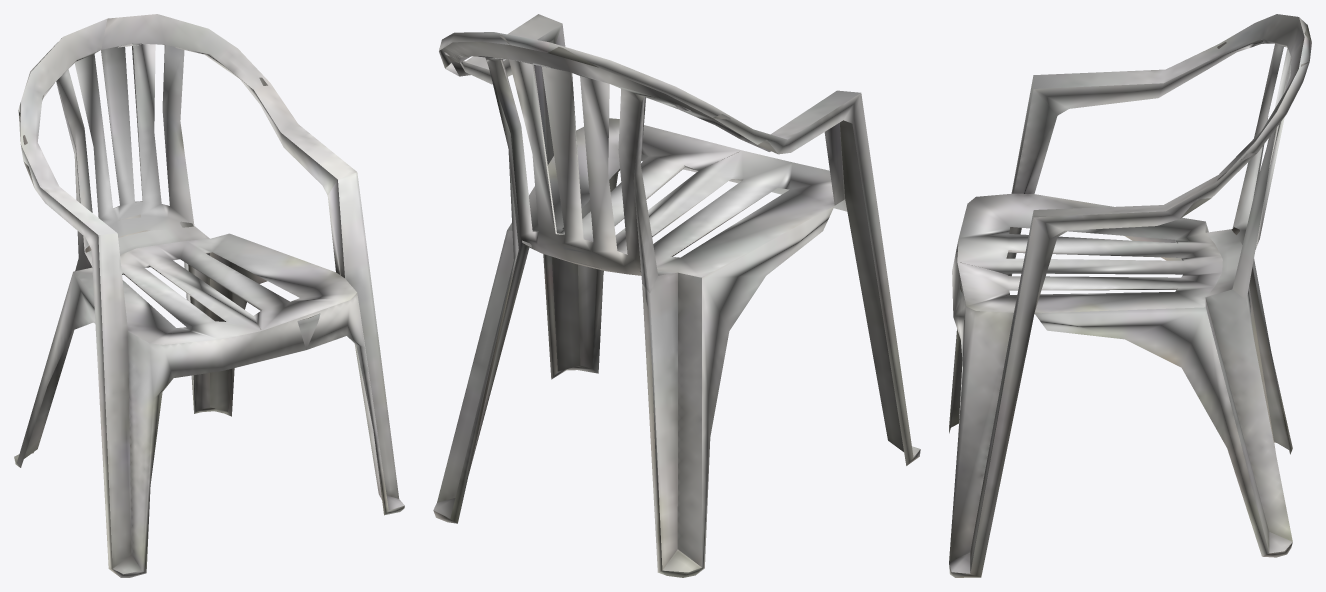
File: chair_monobloc_lod1.glb
3 views of the same model, side by side, from view 1: azimuth 30°, elevation 25°; view 2: azimuth 150°, elevation 25°; view 3: azimuth 270°, elevation 25° (orthographic). The views are drawn at different scales.
Visible parts, largest first — view 1: chair_monobloc.001; view 2: chair_monobloc.001; view 3: chair_monobloc.001.
Part boxes in pixels (<box>): chair_monobloc.001: <box>14,14,404,577</box>; chair_monobloc.001: <box>433,14,920,577</box>; chair_monobloc.001: <box>949,14,1311,577</box>.
Size of the model in its own units: 0.6419 by 0.8802 by 0.6252.
1 material, 1 textured.
